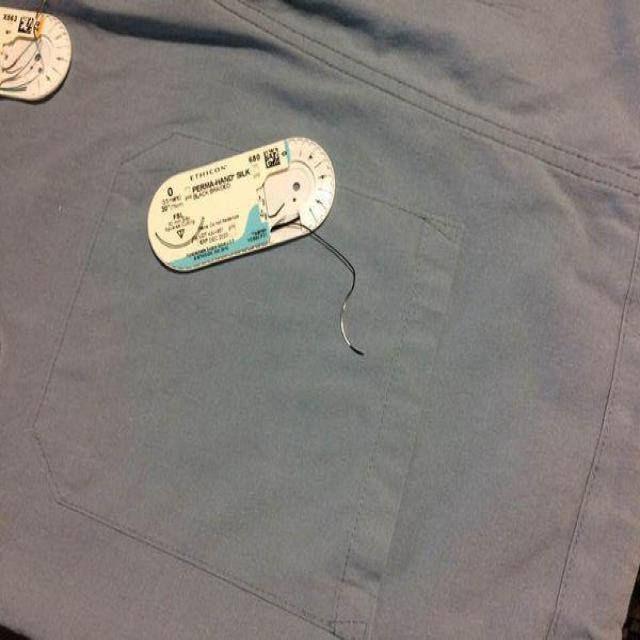Needle: (336, 283, 368, 360), (1, 57, 17, 71)
